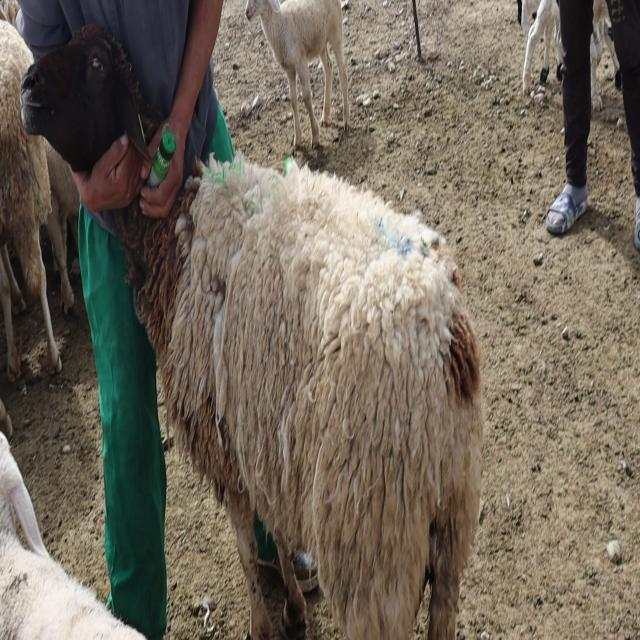Score_1: (119, 156, 483, 639)
